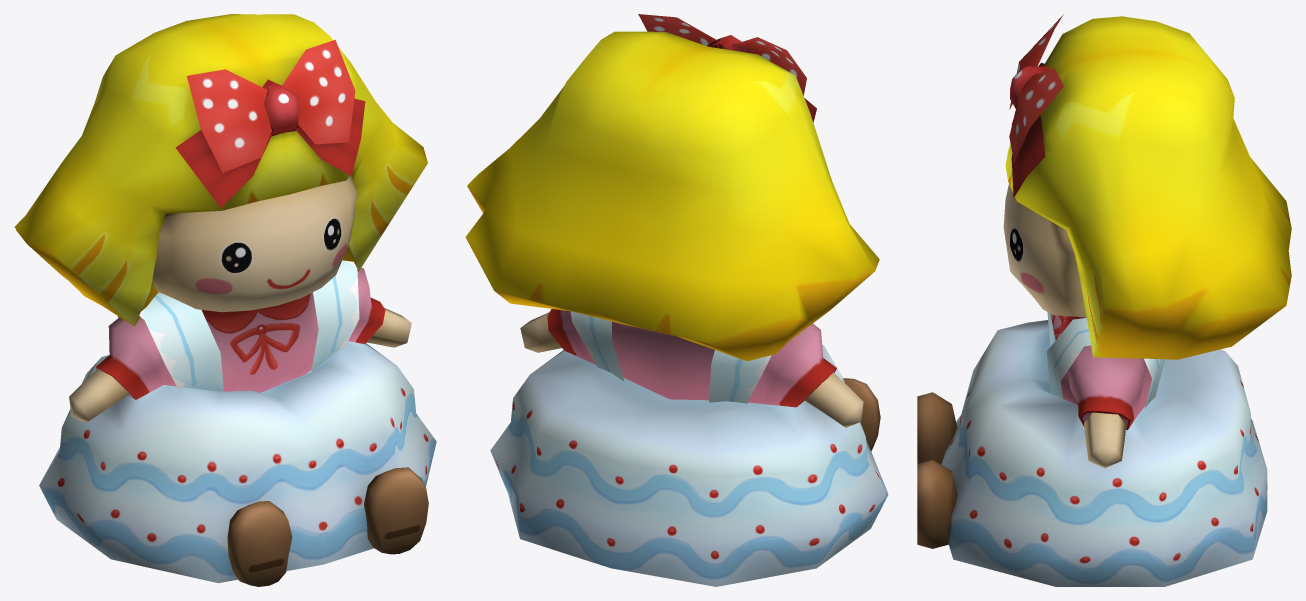
The model's file is Doll.fbx.
The picture shows the model from 3 angles, left to right: view 1: azimuth 30°, elevation 25°; view 2: azimuth 150°, elevation 25°; view 3: azimuth 270°, elevation 25°; orthographic projection.
Parts seen in each view (by area): view 1: 087; view 2: 087; view 3: 087.
Boxes of the visible parts, <box> form: 087: <box>14,14,436,586</box>; 087: <box>465,14,888,586</box>; 087: <box>917,14,1291,586</box>.
Size of the model in its own units: 52.82 by 59.07 by 43.15.
1 material, 1 textured.
